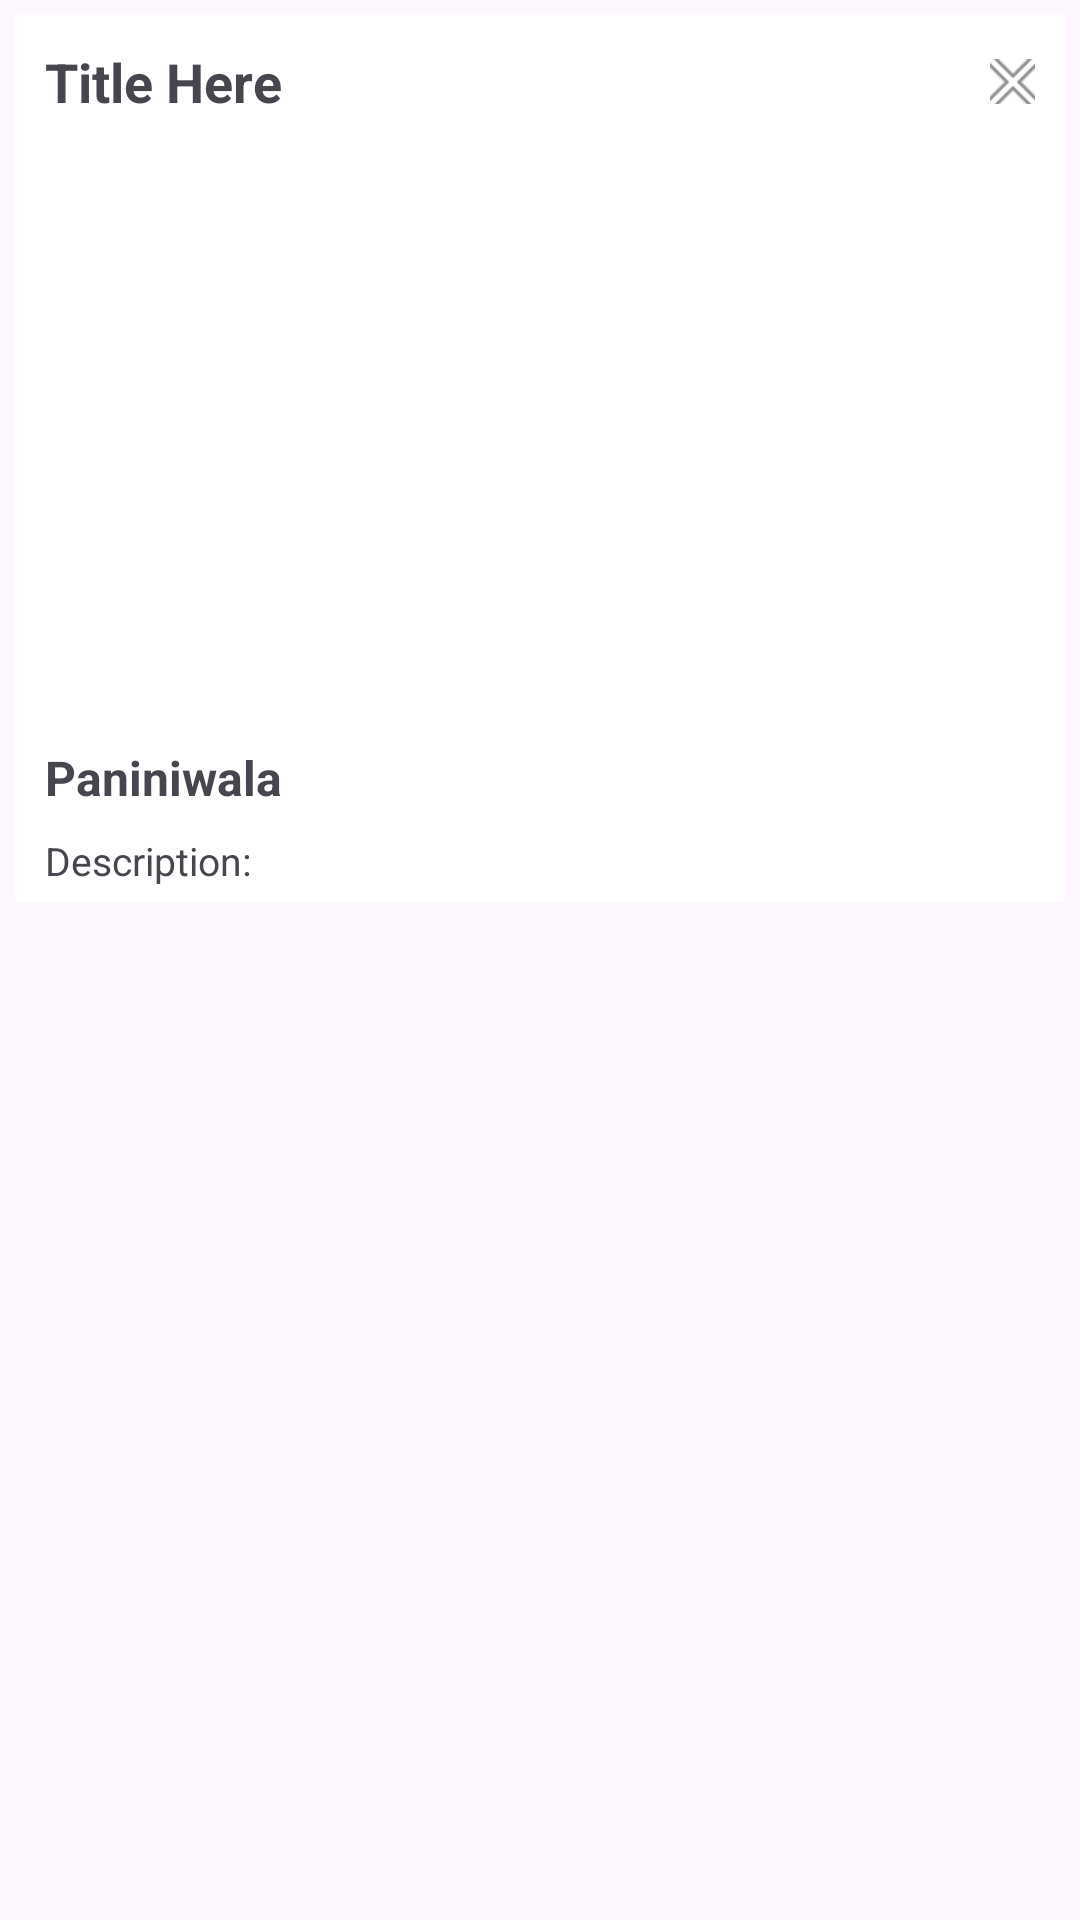

Point at icon controls on the screen. Image size 1080px x 1920px, points as [x,y].
Close: [1012,81]
